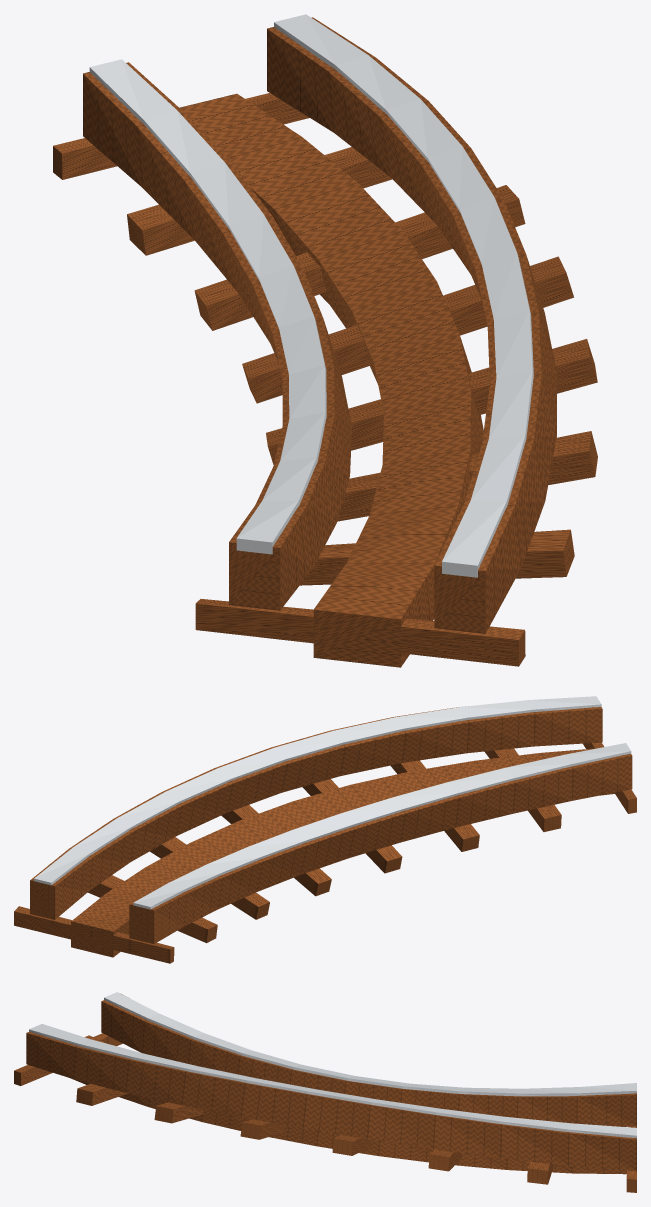
File: theme-park-rides-and-coasters-theme-park-rides-and-coa-1bbdb5b8__28647.glb
3 views of the same model, one above another, from view 1: azimuth 30°, elevation 25°; view 2: azimuth 150°, elevation 25°; view 3: azimuth 270°, elevation 25° (orthographic). The views are drawn at different scales.
Parts seen in each view (by area): view 1: theme-park-rides-and-coasters-timber-curve-45; view 2: theme-park-rides-and-coasters-timber-curve-45; view 3: theme-park-rides-and-coasters-timber-curve-45.
Part boxes in pixels (left/top/right/bottom): theme-park-rides-and-coasters-timber-curve-45: left=53, top=14, right=597, bottom=667; theme-park-rides-and-coasters-timber-curve-45: left=14, top=696, right=636, bottom=963; theme-park-rides-and-coasters-timber-curve-45: left=14, top=992, right=636, bottom=1192.
Size of the model in its own units: 2.84 by 0.6856 by 4.69.
2 materials, 1 textured.
